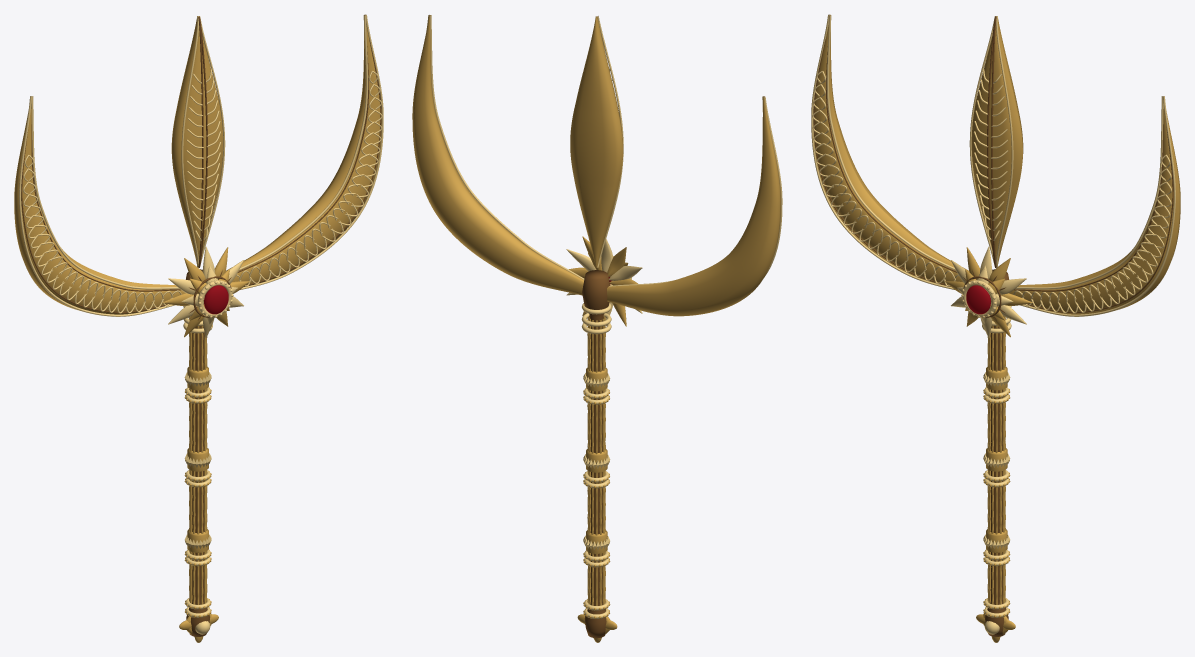
The model's file is trishul-hero.glb.
3 views of the same model, side by side, from view 1: azimuth 30°, elevation 25°; view 2: azimuth 150°, elevation 25°; view 3: azimuth 330°, elevation 25° (orthographic).
Visible parts, largest first — view 1: Burnished gold, Polished raised edges, Antique recessed gold, Deep ruby cabochons; view 2: Burnished gold, Polished raised edges, Antique recessed gold; view 3: Burnished gold, Polished raised edges, Antique recessed gold, Deep ruby cabochons.
Part boxes in pixels (<box>): Burnished gold: <box>14,14,381,642</box>; Polished raised edges: <box>19,15,383,634</box>; Antique recessed gold: <box>21,14,381,636</box>; Deep ruby cabochons: <box>204,285,228,314</box>; Burnished gold: <box>412,15,780,642</box>; Polished raised edges: <box>426,15,782,618</box>; Antique recessed gold: <box>430,15,764,638</box>; Burnished gold: <box>813,14,1180,642</box>; Polished raised edges: <box>811,15,1175,634</box>; Antique recessed gold: <box>813,14,1173,636</box>; Deep ruby cabochons: <box>966,285,990,314</box>.
Bounding box in the file's own units: 7.78 × 12.74 × 1.07.
